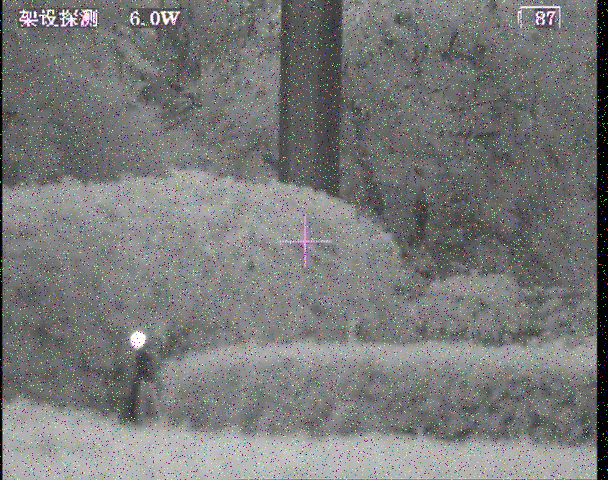my: (129, 331, 146, 350)
